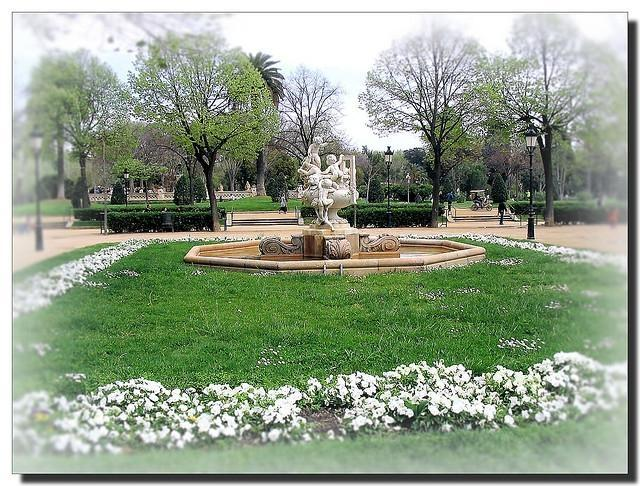motorcycle: (468, 190, 496, 211)
